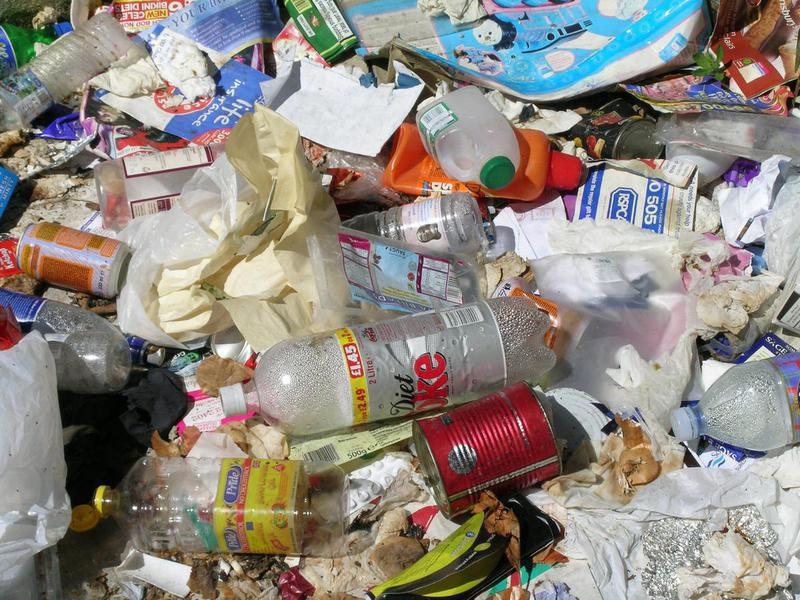bottle: (218, 288, 558, 433), (92, 454, 355, 555), (1, 15, 138, 136), (405, 83, 538, 193)
can: (404, 383, 567, 518), (11, 221, 133, 297)
cardboard: (575, 148, 702, 246)
paper: (257, 43, 426, 168), (361, 499, 566, 600), (712, 150, 794, 257), (682, 530, 794, 597)
plastic: (1, 330, 78, 593), (314, 219, 480, 316)
